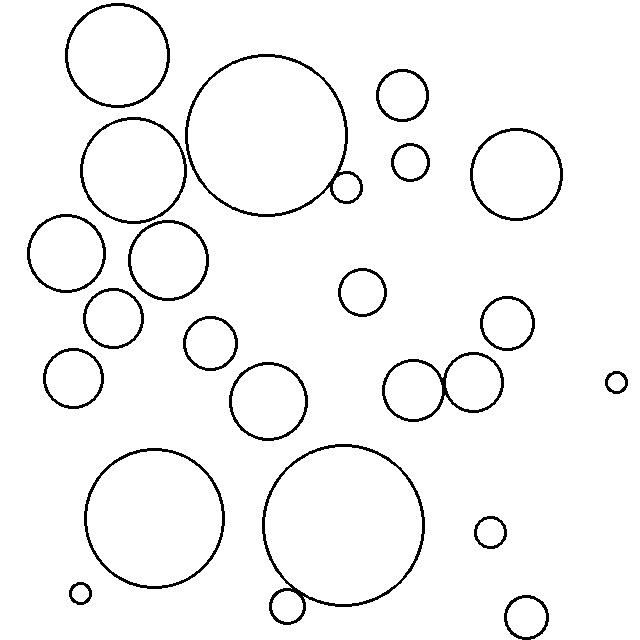circle: (184, 49, 352, 221), (260, 439, 427, 610), (83, 444, 229, 592), (62, 0, 174, 111), (78, 114, 189, 226), (466, 124, 567, 226), (224, 358, 313, 444), (23, 208, 109, 296), (127, 216, 212, 304), (379, 354, 446, 425), (39, 345, 109, 412), (80, 285, 148, 352), (442, 348, 508, 416), (478, 289, 539, 355), (181, 312, 241, 374), (374, 66, 433, 128), (333, 263, 391, 320), (500, 590, 551, 640), (387, 138, 434, 186), (327, 163, 367, 211), (267, 585, 309, 628), (471, 512, 511, 554), (601, 367, 631, 398), (67, 578, 94, 609)
